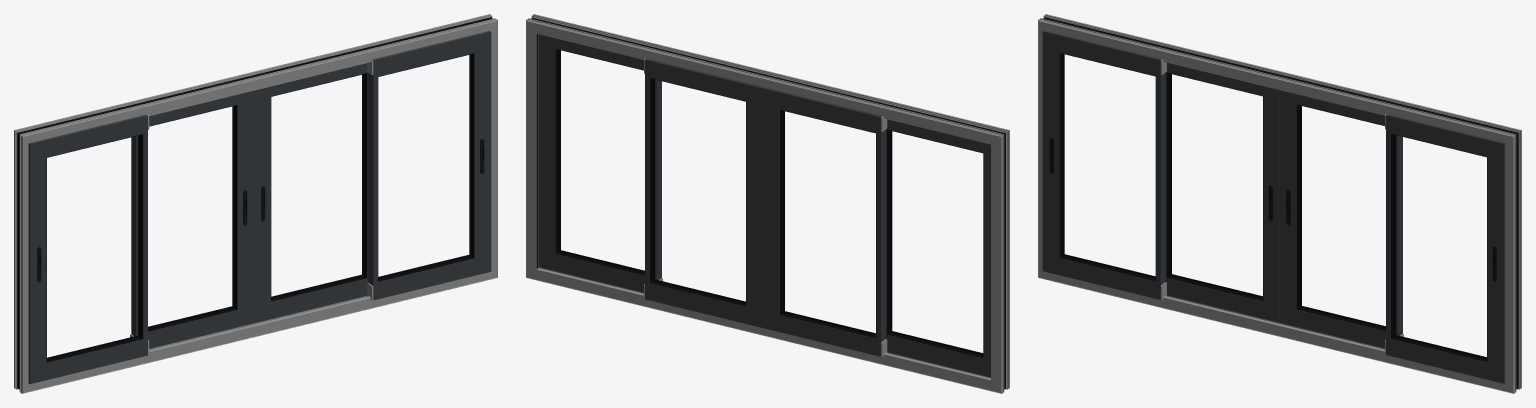
3 views of the same model, side by side, from view 1: azimuth 30°, elevation 25°; view 2: azimuth 150°, elevation 25°; view 3: azimuth 330°, elevation 25° (orthographic).
Parts seen in each view (by area): view 1: Rectangle014, Plane001, Plane004, Plane003, Plane002, Rectangle005, Rectangle001, Rectangle011, Rectangle008; view 2: Rectangle014, Plane003, Plane002, Plane001, Plane004, Rectangle011, Rectangle005, Rectangle008, Rectangle001; view 3: Rectangle014, Plane004, Plane001, Plane002, Plane003, Rectangle008, Rectangle011, Rectangle001, Rectangle005.
Part boxes in pixels (box(x1,y1,x2,y2)): Rectangle014: box(14, 14, 497, 393); Plane001: box(368, 31, 491, 300); Plane004: box(28, 114, 147, 383); Plane003: box(131, 91, 254, 348); Plane002: box(254, 63, 368, 322); Rectangle005: box(271, 73, 367, 301); Rectangle001: box(378, 53, 474, 281); Rectangle011: box(46, 134, 142, 362); Rectangle008: box(148, 105, 237, 331); Rectangle014: box(526, 14, 1009, 393); Plane003: box(763, 87, 885, 356); Plane002: box(645, 58, 764, 327); Plane001: box(539, 34, 661, 292); Plane004: box(886, 119, 990, 377); Rectangle011: box(887, 129, 983, 358); Rectangle005: box(650, 78, 746, 306); Rectangle008: box(780, 109, 876, 338); Rectangle001: box(555, 49, 644, 275); Rectangle014: box(1038, 14, 1521, 393); Plane004: box(1042, 30, 1165, 299); Plane001: box(1386, 114, 1505, 383); Plane002: box(1280, 90, 1402, 348); Plane003: box(1165, 63, 1279, 322); Rectangle008: box(1166, 72, 1263, 301); Rectangle011: box(1059, 53, 1155, 281); Rectangle001: box(1391, 133, 1487, 361); Rectangle005: box(1296, 104, 1385, 331).
Size of the model in its own units: 1946 by 1008 by 82.8.
Materials: 7 (2 with a texture image).
